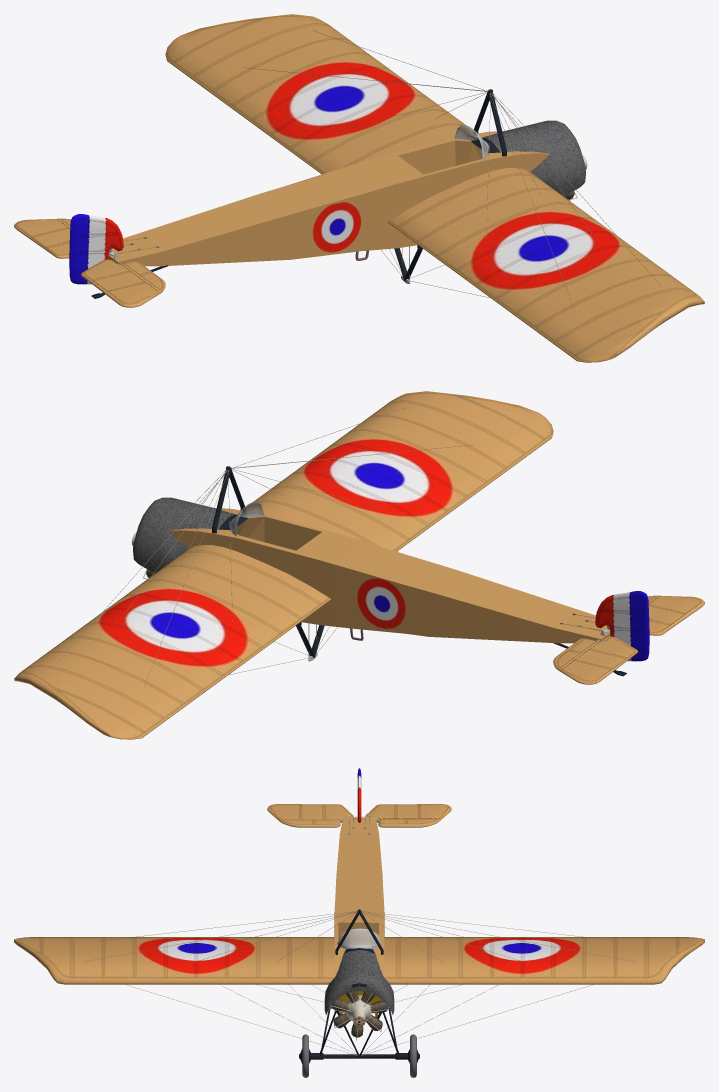
The model's file is morane_saulnier_g_cockpit.glb.
3 renders of one model, top to bottom at view 1: azimuth 30°, elevation 25°; view 2: azimuth 150°, elevation 25°; view 3: azimuth 270°, elevation 25°, orthographic. The views are drawn at different scales.
Parts seen in each view (by area): view 1: Line12-FACES, Line42-FACES, Box01-FACES (×2), kapot01-FACES, Line13-FACES, Line14-FACES, Line11-FACES, kapot-FACES, Line28-FACES, Line32-FACES, Line24-FACES; view 2: Line42-FACES, Line12-FACES, Box01-FACES (×2), kapot01-FACES, Line13-FACES, Line11-FACES, Line14-FACES, kapot-FACES, Line28-FACES, Line32-FACES, Line24-FACES; view 3: Line12-FACES, Line42-FACES, Box01-FACES, kapot01-FACES, Line11-FACES, Line14-FACES, Line28-FACES, kapot-FACES, Line29-FACES, Line32-FACES, Cylinder02-FACES, Line17-FACES.
Part boxes in pixels (x1,y1,x2,y2): Line12-FACES: [387, 168, 704, 362]; Line42-FACES: [165, 14, 472, 174]; Box01-FACES (×2): [108, 130, 549, 266]; kapot01-FACES: [482, 120, 585, 195]; Line13-FACES: [69, 214, 123, 284]; Line14-FACES: [81, 259, 165, 307]; Line11-FACES: [14, 218, 71, 257]; kapot-FACES: [471, 120, 585, 195]; Line28-FACES: [312, 30, 660, 285]; Line32-FACES: [245, 67, 574, 309]; Line24-FACES: [473, 89, 506, 156]; Line42-FACES: [14, 545, 331, 739]; Line12-FACES: [246, 391, 553, 551]; Box01-FACES (×2): [169, 507, 610, 643]; kapot01-FACES: [133, 497, 236, 572]; Line13-FACES: [595, 591, 649, 661]; Line11-FACES: [553, 636, 637, 684]; Line14-FACES: [647, 595, 704, 634]; kapot-FACES: [133, 498, 247, 572]; Line28-FACES: [58, 407, 406, 662]; Line32-FACES: [144, 444, 474, 686]; Line24-FACES: [212, 466, 245, 533]; Line12-FACES: [14, 937, 334, 984]; Line42-FACES: [384, 937, 704, 984]; Box01-FACES: [334, 818, 384, 1013]; kapot01-FACES: [324, 949, 394, 1014]; Line11-FACES: [365, 804, 451, 826]; Line14-FACES: [267, 804, 353, 826]; Line28-FACES: [83, 911, 635, 962]; kapot-FACES: [325, 948, 393, 1012]; Line29-FACES: [126, 984, 592, 1055]; Line32-FACES: [98, 911, 620, 941]; Cylinder02-FACES: [299, 1049, 419, 1063]; Line17-FACES: [319, 1009, 399, 1056].
Size of the model in its own units: 6.3 by 2.4 by 9.2.
Materials: 28 (14 with a texture image).
